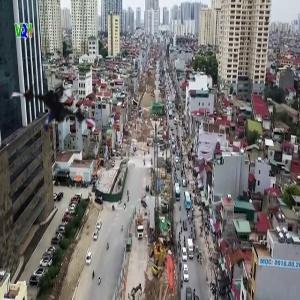drone: (4, 72, 104, 172)
